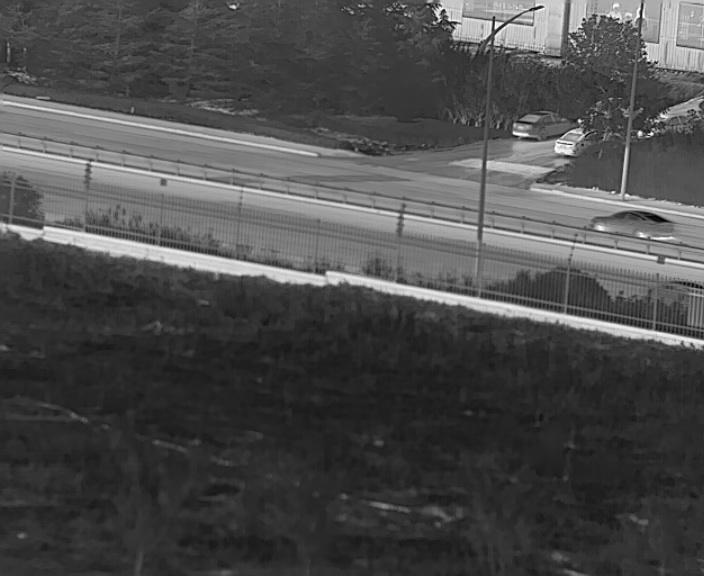vehicle: (589, 209, 674, 239), (512, 110, 563, 139), (553, 126, 587, 156)
